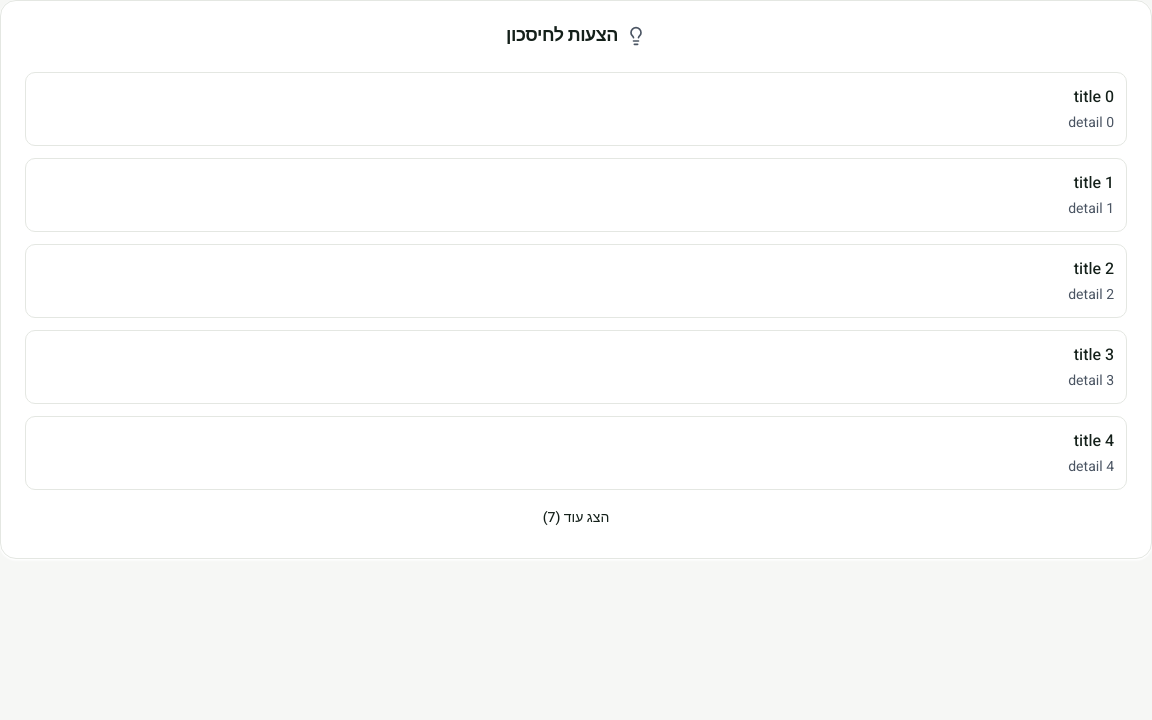
Scenario: Suggestions › shows the first five, then all of them after "show more", and hides them again
Expected: the number of list items is 5, x1=25 y1=72 x2=1127 y2=146; x1=25 y1=158 x2=1127 y2=232; x1=25 y1=244 x2=1127 y2=318; x1=25 y1=330 x2=1127 y2=404; x1=25 y1=416 x2=1127 y2=490
Click the button "הצג עוד (7)".
click(576, 518)  # box x1=25 y1=502 x2=1127 y2=534
(page scrolled)
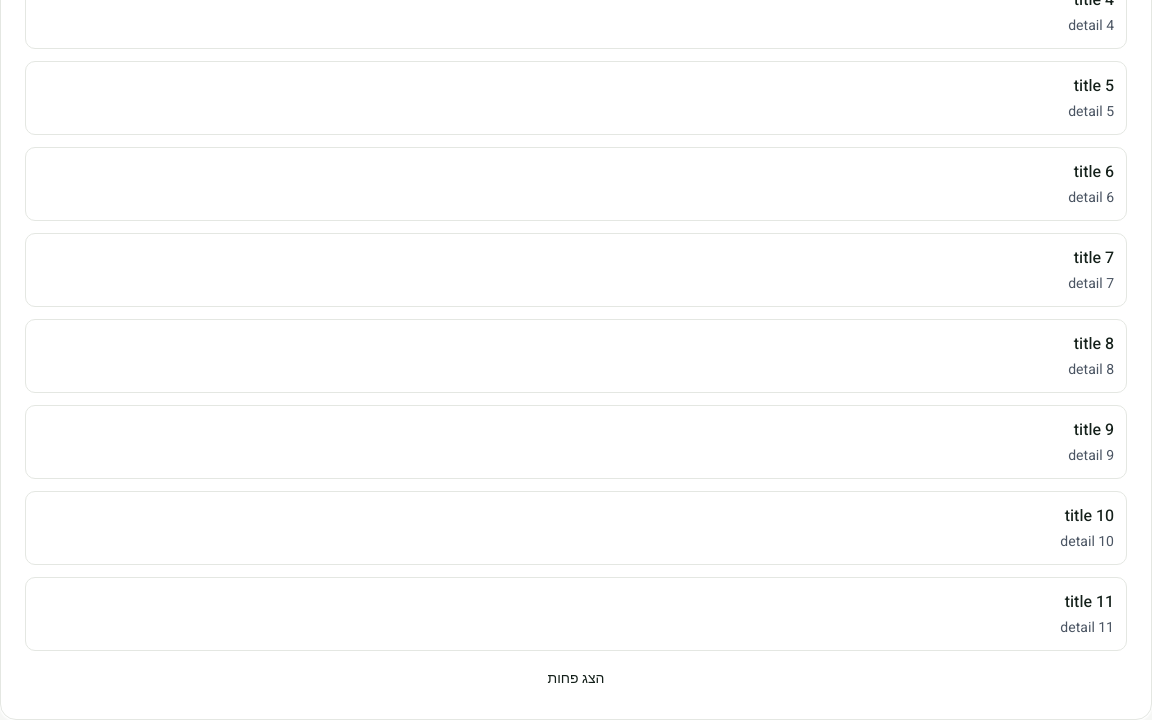
Now the number of list items is 12
Now the button "הצג פחות" is expanded
Click the button "הצג פחות".
click(576, 678)  # box x1=25 y1=662 x2=1127 y2=694
(page scrolled)
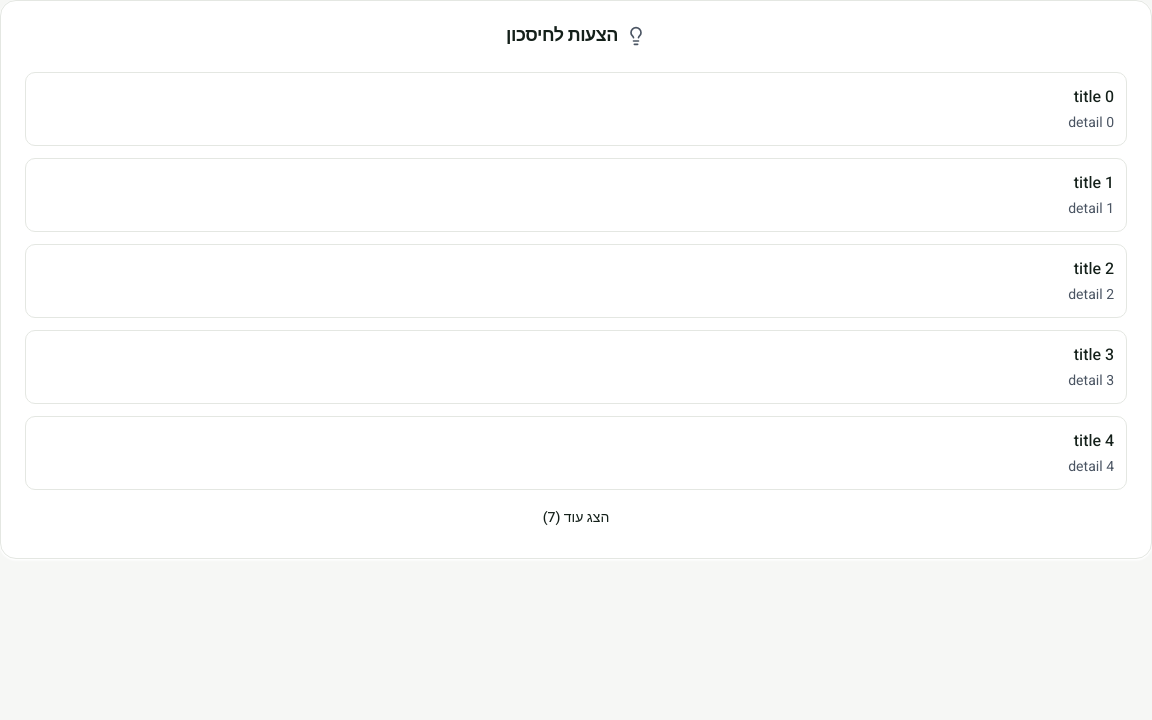
Now the number of list items is 5, box x1=25 y1=72 x2=1127 y2=146; x1=25 y1=158 x2=1127 y2=232; x1=25 y1=244 x2=1127 y2=318; x1=25 y1=330 x2=1127 y2=404; x1=25 y1=416 x2=1127 y2=490
